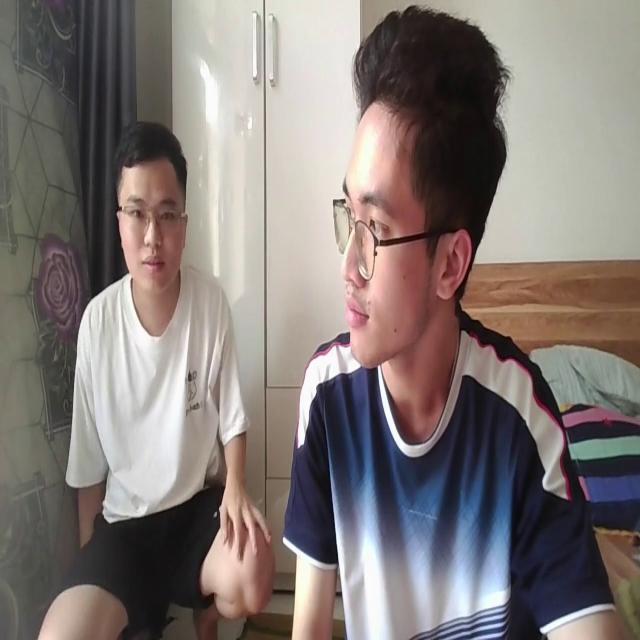extra_person: (33, 112, 275, 640)
student: (288, 6, 617, 640)
